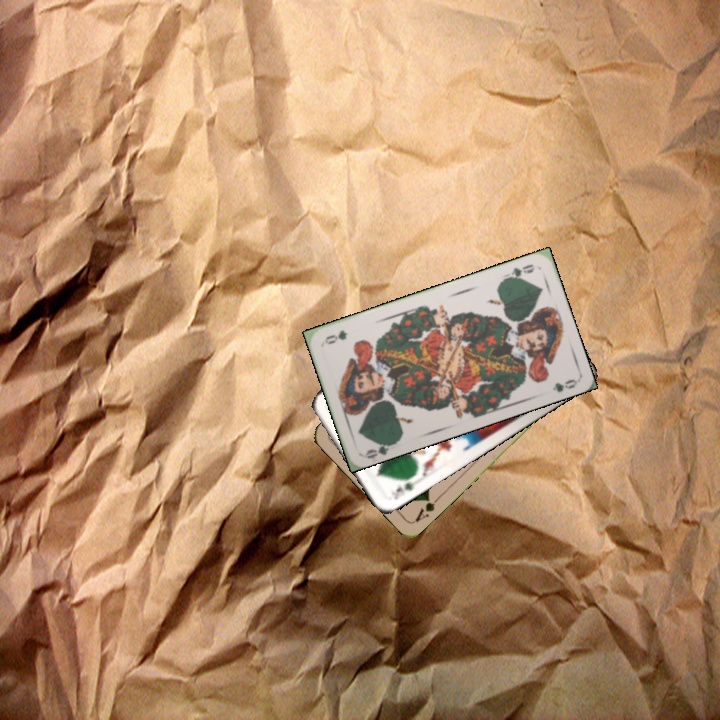GA: (411, 492, 443, 525)
GK: (387, 478, 417, 502)
GO: (361, 437, 400, 461), (500, 260, 537, 284)
